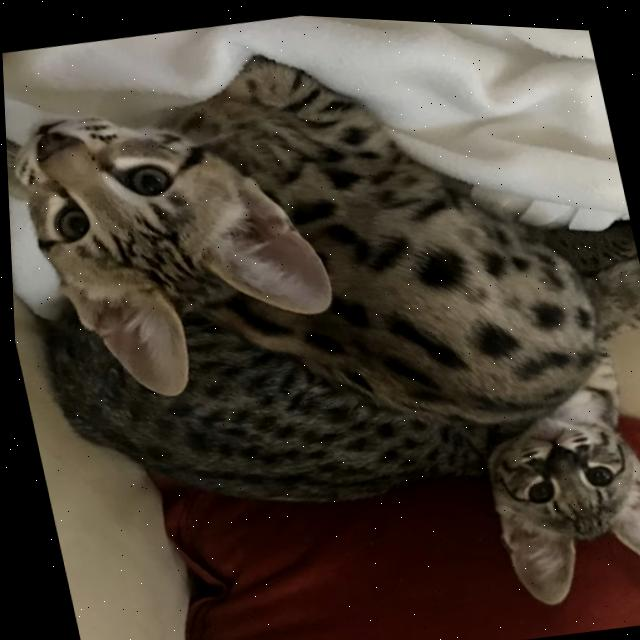Savannah: (0, 0, 618, 500), (51, 304, 640, 640)
